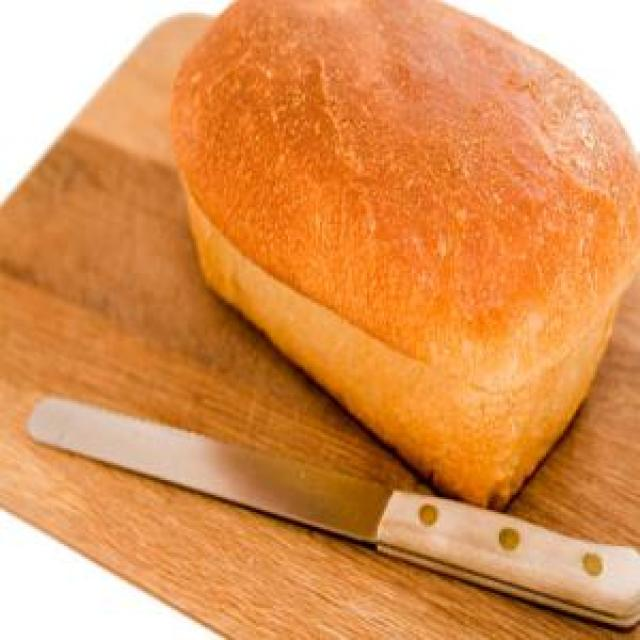knife: (23, 390, 638, 632)
